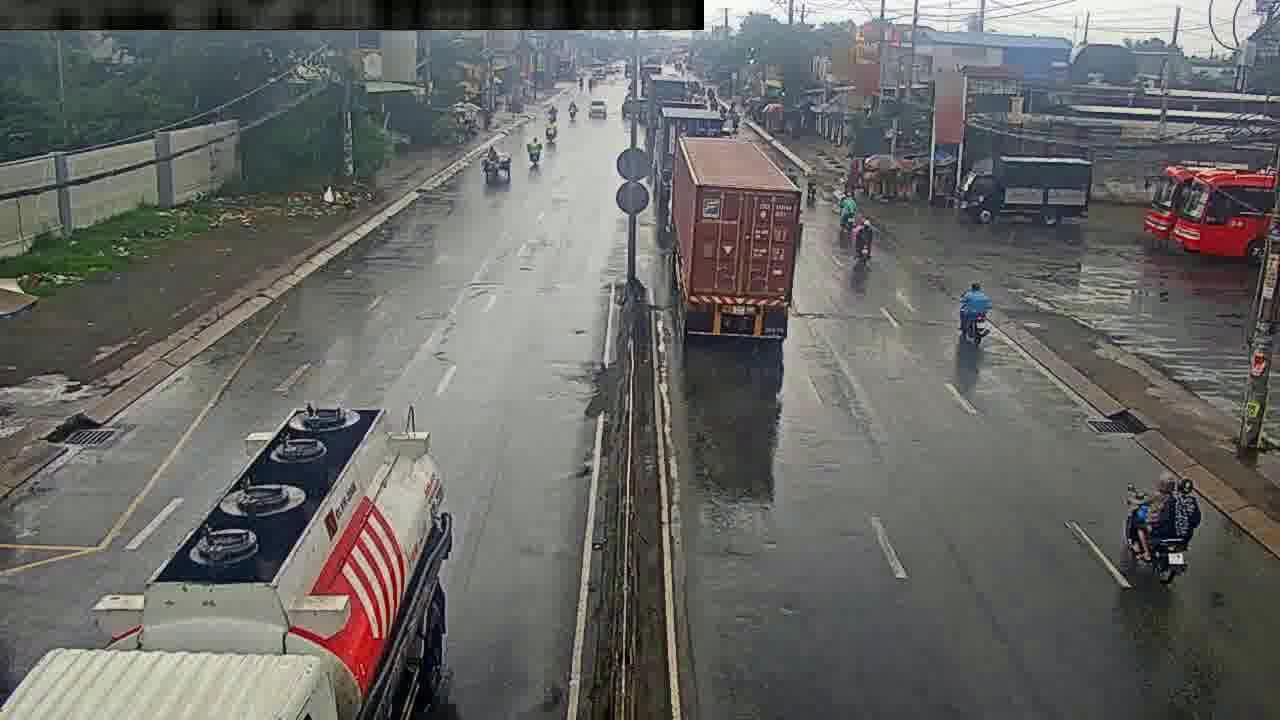8: (2, 399, 459, 720), (657, 127, 805, 338)
motorbike: (1125, 462, 1199, 587), (960, 278, 991, 347), (852, 213, 873, 268), (839, 190, 858, 229), (527, 131, 542, 170)
